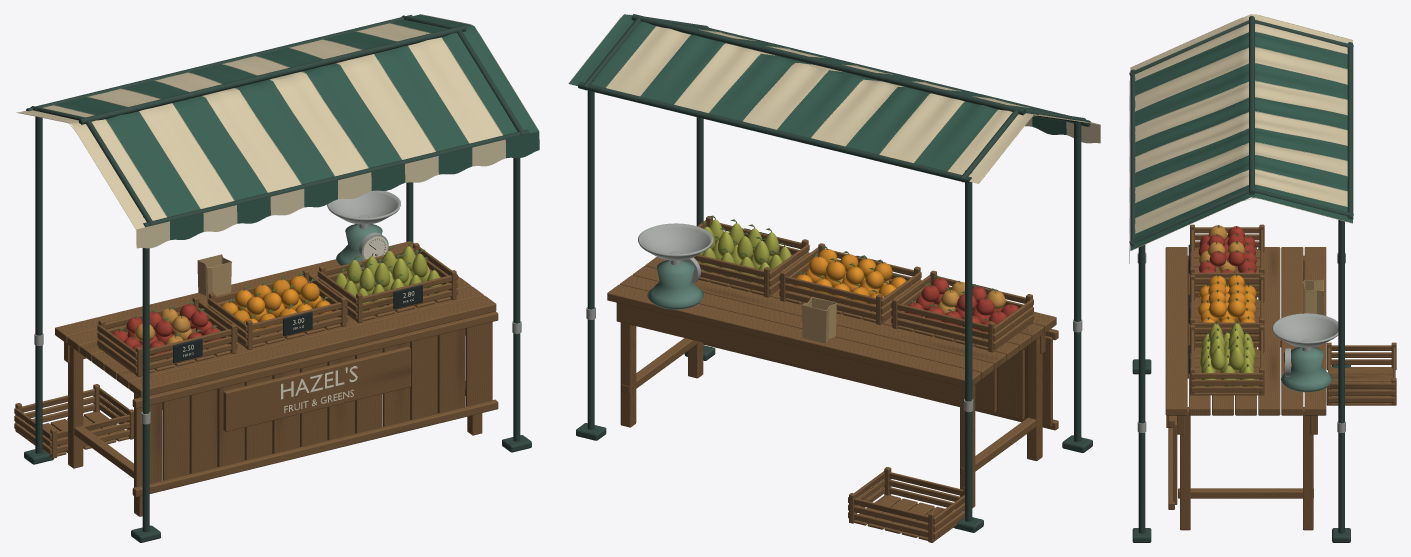
File: hazel-fruit-stall.glb
3 views of the same model, side by side, from view 1: azimuth 30°, elevation 25°; view 2: azimuth 150°, elevation 25°; view 3: azimuth 270°, elevation 25° (orthographic). The views are drawn at different scales.
Parts seen in each view (by area): view 1: Stall_structure__unbleached canvas, Stall_structure__worn honey timber, Stall_structure__painted iron frame, Produce_display__worn honey timber, Produce_display__orange rind, Produce_display__pear yellow green, Stall_structure__unbleached canvas.001, Scale_and_service__scale bowl and fittings, Produce_display__apple crimson, Produce_display__chalk slate and rubber, Scale_and_service__folded kraft paper, Scale_and_service__enamel weighing scale (+3 smaller); view 2: Stall_structure__unbleached canvas, Stall_structure__worn honey timber, Stall_structure__painted iron frame, Produce_display__worn honey timber, Produce_display__orange rind, Produce_display__pear yellow green, Scale_and_service__scale bowl and fittings, Produce_display__apple crimson, Scale_and_service__enamel weighing scale, Stall_structure__unbleached canvas.001, Scale_and_service__folded kraft paper, Produce_display__apple blushed gold; view 3: Stall_structure__unbleached canvas, Stall_structure__worn honey timber, Stall_structure__painted iron frame, Produce_display__worn honey timber, Stall_structure__unbleached canvas.001, Produce_display__pear yellow green, Produce_display__orange rind, Scale_and_service__scale bowl and fittings, Produce_display__apple crimson, Scale_and_service__enamel weighing scale, Produce_display__apple blushed gold, Scale_and_service__folded kraft paper (+1 smaller).
Part boxes in pixels (box(x1,y1,x2,y2)): Stall_structure__unbleached canvas: box(18, 14, 539, 248); Stall_structure__worn honey timber: box(55, 241, 498, 516); Stall_structure__painted iron frame: box(24, 15, 531, 542); Produce_display__worn honey timber: box(14, 243, 457, 458); Produce_display__orange rind: box(221, 275, 331, 330); Produce_display__pear yellow green: box(334, 246, 441, 311); Stall_structure__unbleached canvas.001: box(16, 14, 538, 229); Scale_and_service__scale bowl and fittings: box(327, 190, 400, 259); Produce_display__apple crimson: box(112, 304, 221, 357); Produce_display__chalk slate and rubber: box(173, 285, 422, 362); Scale_and_service__folded kraft paper: box(197, 255, 231, 298); Scale_and_service__enamel weighing scale: box(336, 224, 382, 267); Stall_structure__unbleached canvas: box(569, 14, 1100, 183); Stall_structure__worn honey timber: box(607, 251, 1058, 508); Stall_structure__painted iron frame: box(576, 14, 1092, 532); Produce_display__worn honey timber: box(694, 216, 1033, 542); Produce_display__orange rind: box(793, 249, 906, 305); Produce_display__pear yellow green: box(697, 219, 791, 285); Scale_and_service__scale bowl and fittings: box(638, 223, 713, 282); Produce_display__apple crimson: box(905, 278, 1020, 332); Scale_and_service__enamel weighing scale: box(647, 260, 703, 309); Stall_structure__unbleached canvas.001: box(568, 14, 1100, 183); Scale_and_service__folded kraft paper: box(801, 298, 836, 343); Produce_display__apple blushed gold: box(937, 281, 1005, 314); Stall_structure__unbleached canvas: box(1129, 14, 1352, 263); Stall_structure__worn honey timber: box(1165, 247, 1326, 530); Stall_structure__painted iron frame: box(1129, 16, 1353, 542); Produce_display__worn honey timber: box(1190, 224, 1396, 405); Stall_structure__unbleached canvas.001: box(1130, 14, 1352, 250); Produce_display__pear yellow green: box(1200, 323, 1255, 386); Produce_display__orange rind: box(1198, 275, 1256, 322); Scale_and_service__scale bowl and fittings: box(1272, 313, 1338, 376); Produce_display__apple crimson: box(1198, 226, 1256, 272); Scale_and_service__enamel weighing scale: box(1281, 347, 1332, 392); Produce_display__apple blushed gold: box(1199, 225, 1244, 272); Scale_and_service__folded kraft paper: box(1303, 280, 1323, 315).
Size of the model in its own units: 3 by 2.68 by 1.85.
15 materials, 1 textured.
